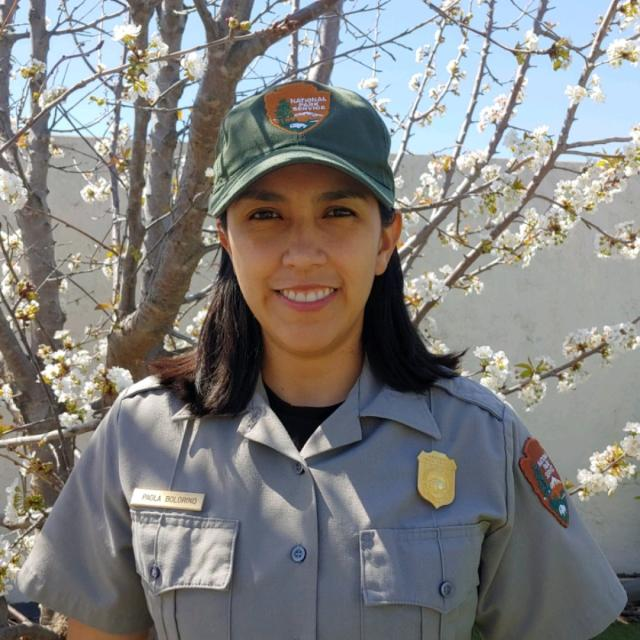police: (24, 67, 637, 640)
